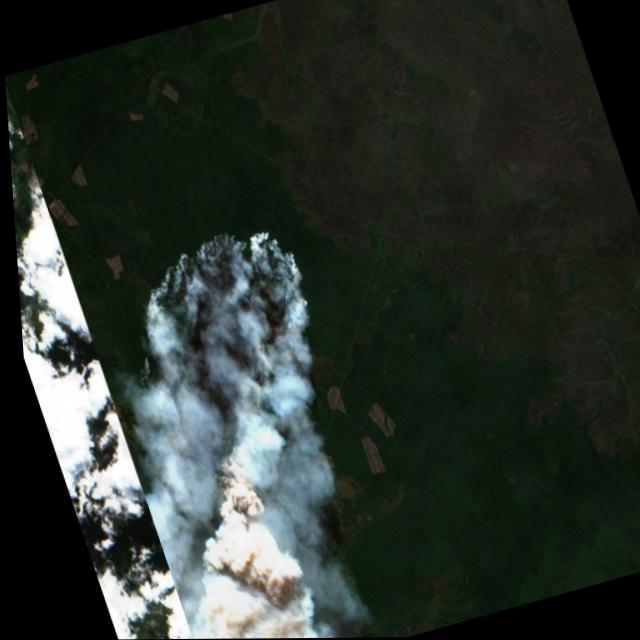fire: (80, 213, 368, 525)
